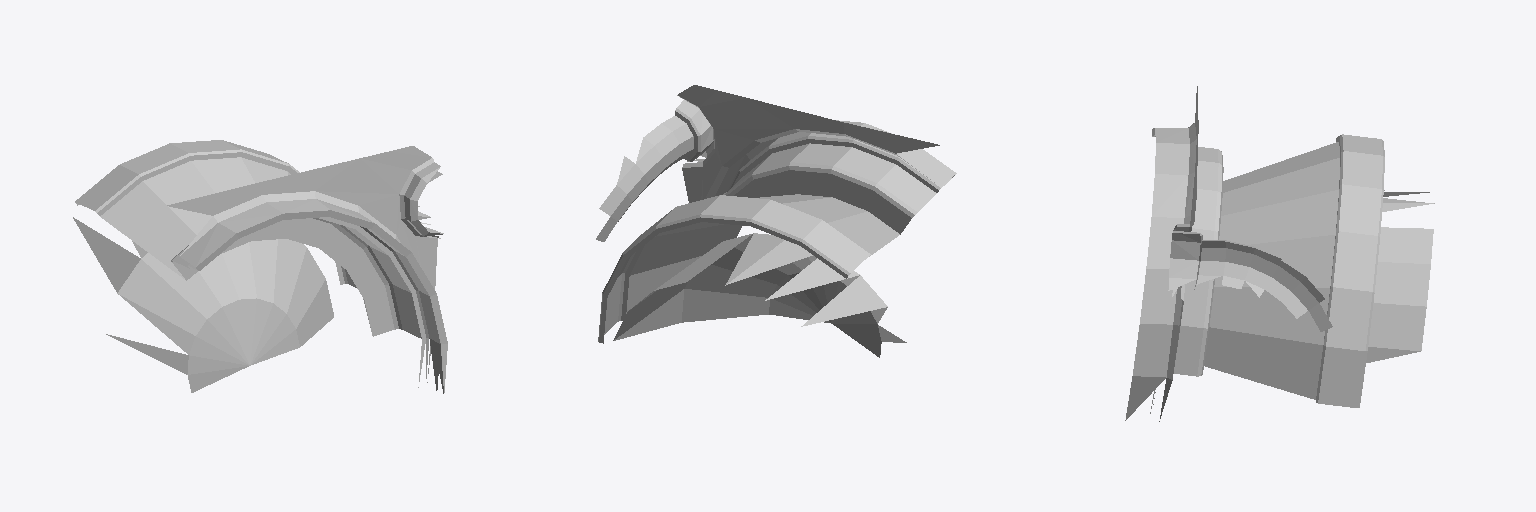
Rendered from shard23.obj.
3 views of the same model, side by side, from view 1: azimuth 30°, elevation 25°; view 2: azimuth 150°, elevation 25°; view 3: azimuth 270°, elevation 25° (orthographic).
Visible parts, largest first — view 1: defaultMaterial.021; view 2: defaultMaterial.021; view 3: defaultMaterial.021.
Part boxes in pixels (x1,y1,x2,y2): defaultMaterial.021: (73,140,447,393); defaultMaterial.021: (596,85,956,357); defaultMaterial.021: (1125,86,1434,421).
Size of the model in its own units: 5.08 by 3.74 by 4.65.